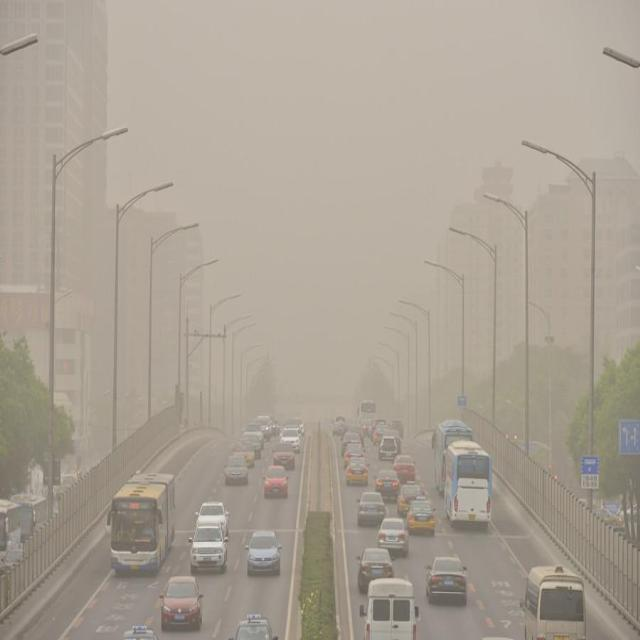Bus: (106, 468, 175, 574), (442, 440, 493, 529), (430, 418, 473, 493)
Car: (158, 575, 204, 629), (425, 554, 469, 601), (187, 521, 229, 570), (245, 529, 283, 579), (356, 547, 394, 589), (377, 517, 410, 551), (262, 463, 290, 502), (406, 498, 438, 532), (194, 501, 232, 524), (224, 455, 248, 490), (356, 492, 384, 522), (393, 452, 420, 483), (374, 466, 400, 497), (396, 482, 421, 512), (344, 463, 368, 488)
Van: (518, 566, 586, 640)
